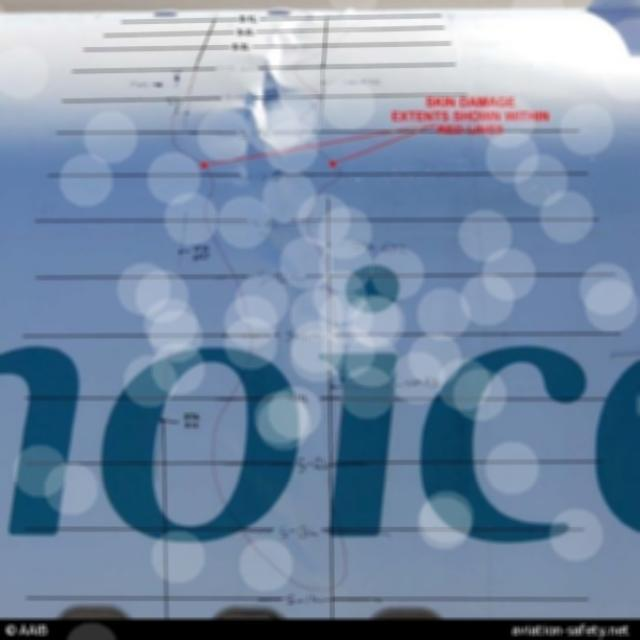dent: (255, 29, 295, 93)
